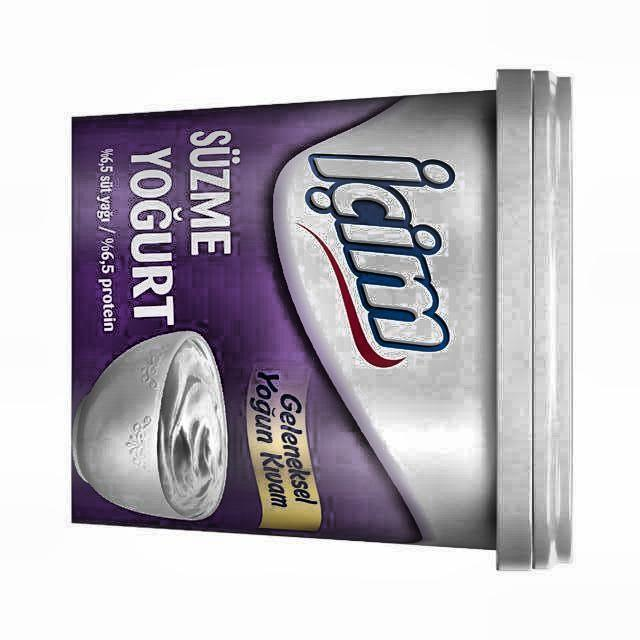plastic: (73, 70, 571, 569)
